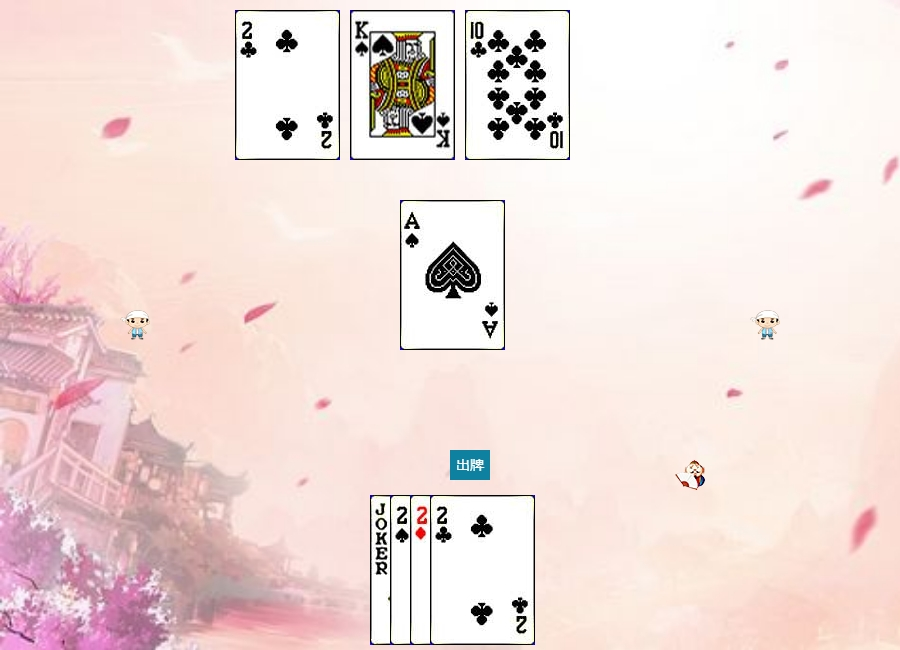10~2: (465, 10, 570, 160)
13~4: (350, 10, 455, 160)
14~4: (400, 200, 505, 350)
15~1: (410, 495, 515, 645)
15~2: (235, 10, 340, 160), (430, 495, 535, 645)
15~4: (390, 495, 495, 645)
17~3: (370, 495, 475, 645)
